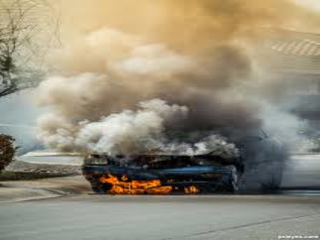fire: (90, 171, 187, 198)
smoke: (41, 31, 269, 159)
